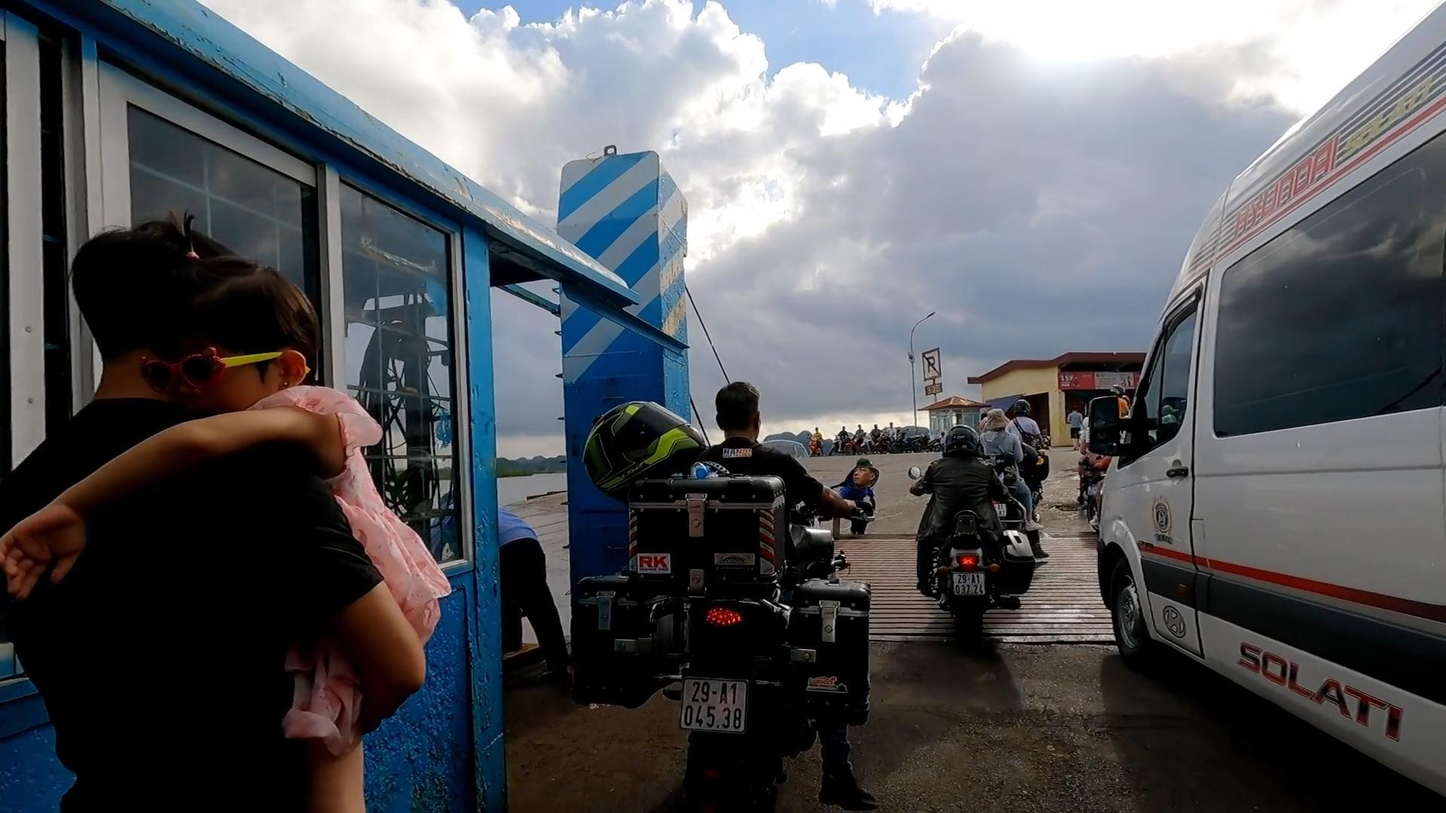driver: (582, 381, 879, 813), (909, 424, 1037, 648)
helmet: (944, 425, 979, 458), (1013, 399, 1031, 417)
no-helmet: (135, 207, 318, 416), (715, 380, 761, 442), (986, 409, 1011, 431)
